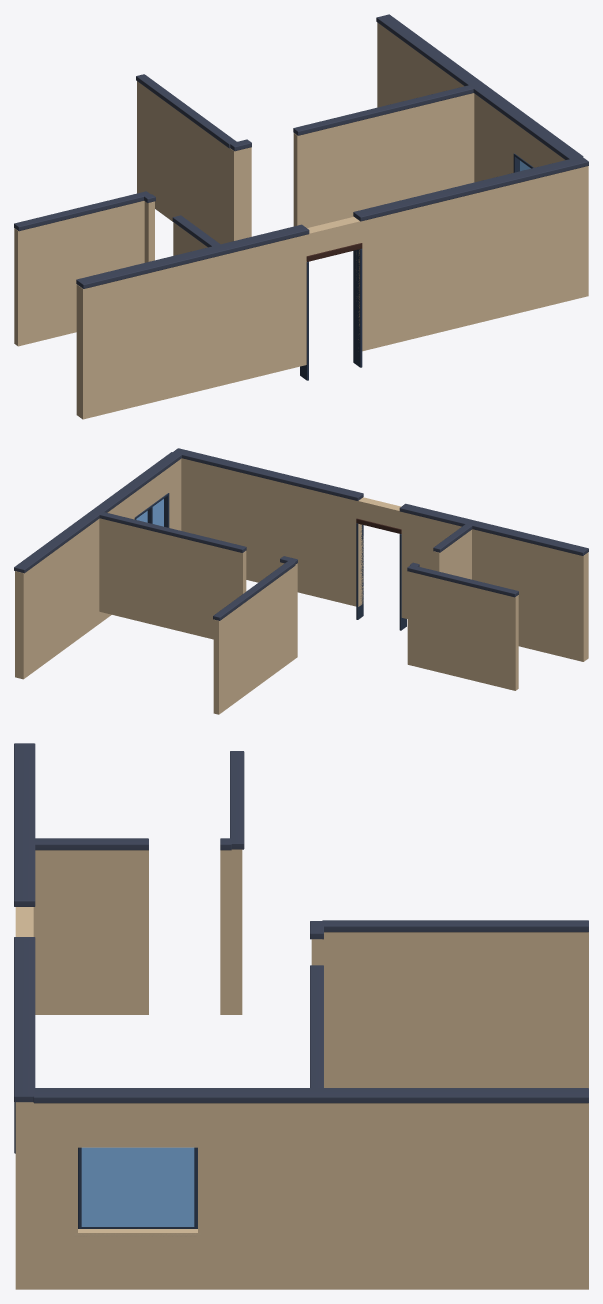
File: upper-walls.glb
3 views of the same model, one above another, from view 1: azimuth 30°, elevation 25°; view 2: azimuth 150°, elevation 25°; view 3: azimuth 270°, elevation 25° (orthographic). The views are drawn at different scales.
Visible parts, largest first — view 1: upper_walls_pivot_Mesh; view 2: upper_walls_pivot_Mesh; view 3: upper_walls_pivot_Mesh.
Boxes of the visible parts, x1,y1,x2,y2 form: upper_walls_pivot_Mesh: (14,14,588,419); upper_walls_pivot_Mesh: (14,448,588,714); upper_walls_pivot_Mesh: (14,743,588,1289).
Size of the model in its own units: 9.42 by 2.68 by 6.47.
